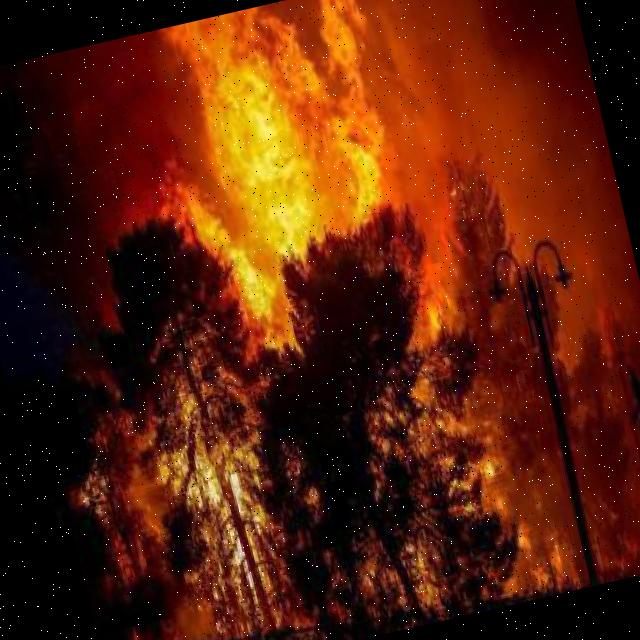fire: (57, 0, 558, 335)
